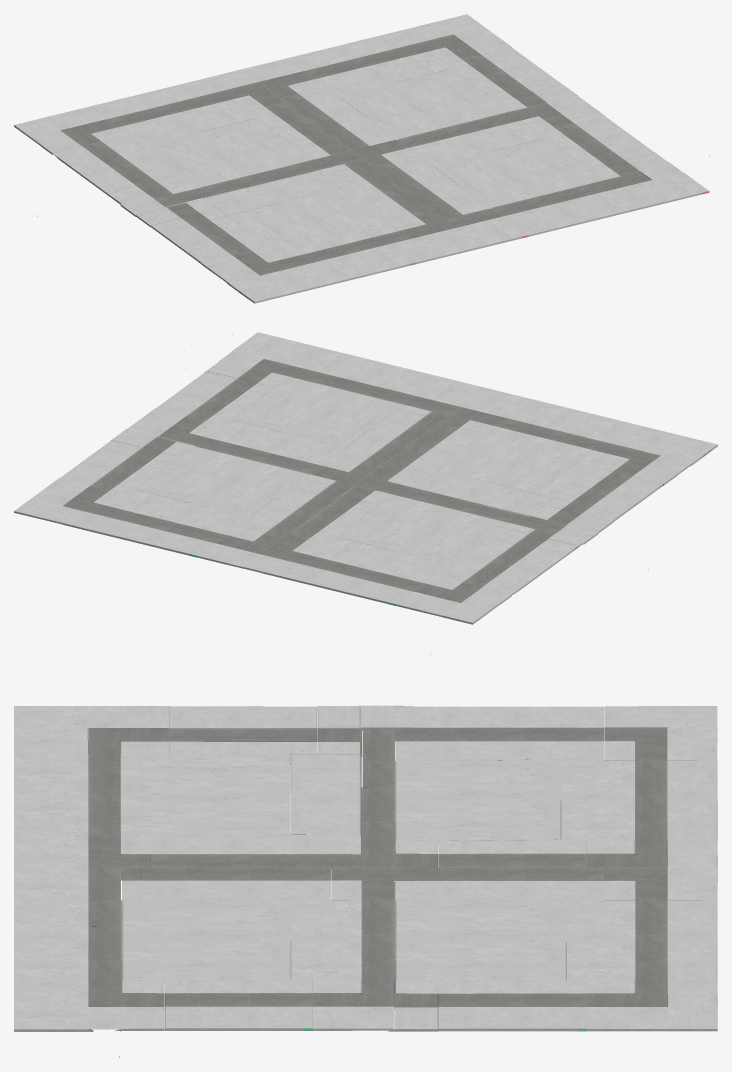
Rendered from CityBaseLevel.fbx.
The picture shows the model from 3 angles, top to bottom: view 1: azimuth 30°, elevation 25°; view 2: azimuth 150°, elevation 25°; view 3: azimuth 270°, elevation 25°; orthographic projection. The views are drawn at different scales.
Parts seen in each view (by area): view 1: street_15, street_6, street_10, street, street_1, street_7, street_3, street_11, street_12, street_4, street_8, corner_7 (+27 smaller); view 2: street_15, street_6, street_10, street, street_1, street_7, street_3, street_11, street_12, street_4, street_8, corner_7 (+27 smaller); view 3: street_15, street_6, street_10, street, street_1, street_7, street_3, street_11, street_4, street_8, street_12, corner_7 (+31 smaller).
Part boxes in pixels (x1,y1,x2,y2): street_15: (228,188,408,266); street_6: (339,69,510,139); street_10: (433,138,603,208); street: (142,118,314,187); street_1: (90,79,256,145); street_7: (286,31,452,96); street_3: (53,135,193,202); street_11: (397,112,545,165); street_12: (151,206,280,263); street_4: (433,47,561,103); street_8: (526,116,655,172); corner_7: (400,14,512,63); street_15: (439,419,622,497); street_6: (135,445,308,517); street_10: (231,376,403,447); street: (338,494,507,564); street_1: (281,536,449,605); street_7: (83,488,248,557); street_3: (434,527,577,594); street_11: (196,418,344,474); street_12: (532,464,663,522); street_4: (60,440,190,497); street_8: (156,371,286,427); corner_7: (14,477,127,529); street_15: (88,754,289,834); street_6: (394,900,566,983); street_10: (120,900,291,982); street: (393,759,561,842); street_1: (560,760,717,840); street_7: (561,900,717,980); street_3: (414,706,604,760); street_11: (287,900,393,980); street_4: (438,972,586,1031); street_8: (165,972,312,1030); street_12: (169,706,317,764); corner_7: (586,980,717,1031).
Size of the model in its own units: 9220 by 28.91 by 6819.
1 material, 1 textured.
